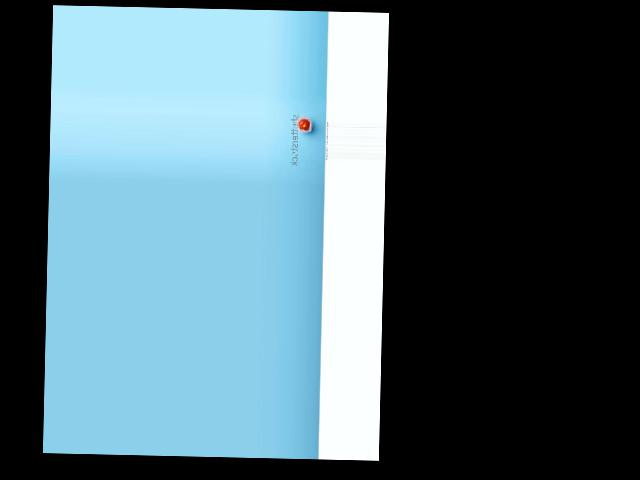tomato: (298, 119, 309, 130)
